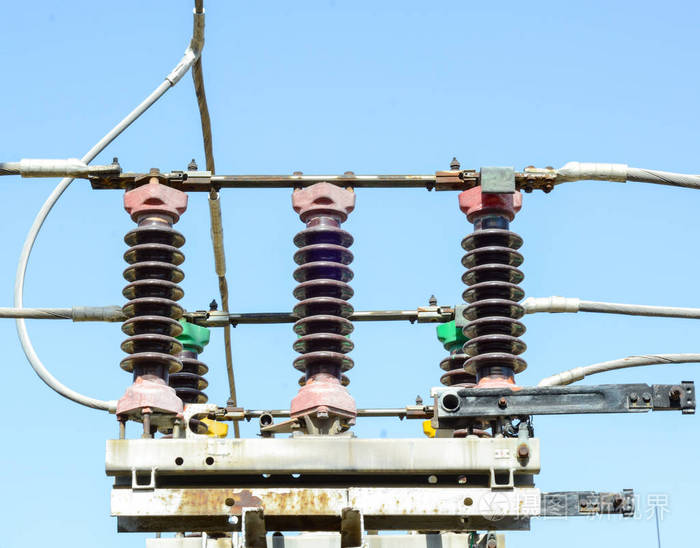insulator: (290, 225, 364, 374), (460, 227, 533, 373), (119, 225, 190, 366)
